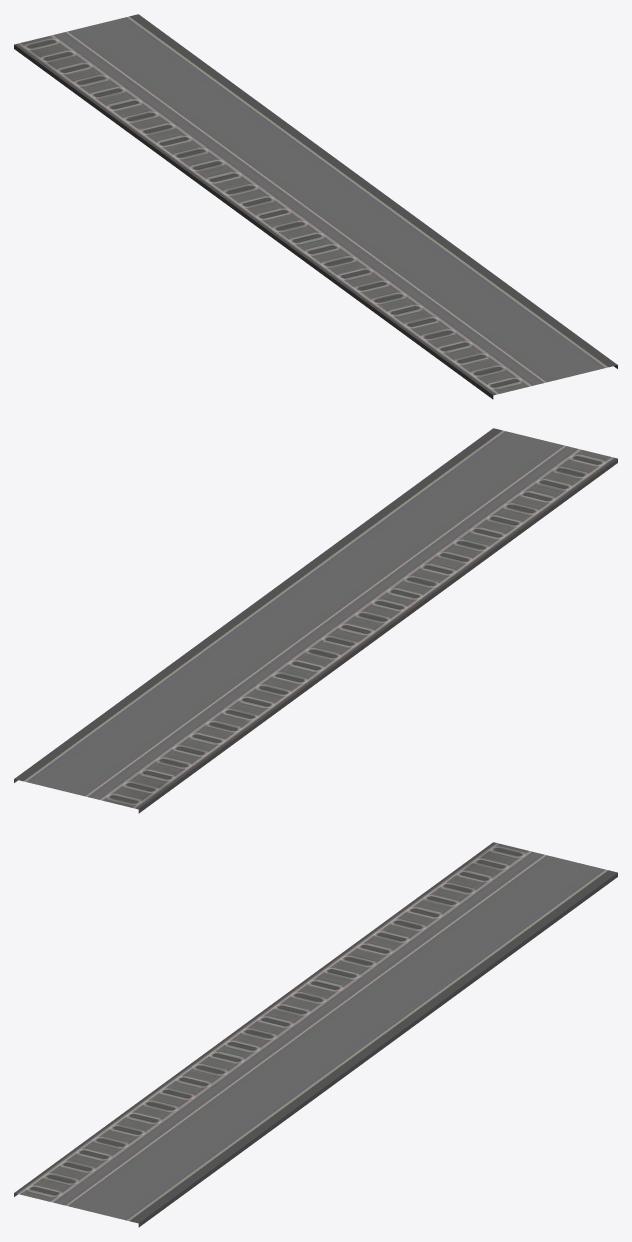
File: BottomMetal_Straight.glb
3 views of the same model, one above another, from view 1: azimuth 30°, elevation 25°; view 2: azimuth 150°, elevation 25°; view 3: azimuth 330°, elevation 25° (orthographic).
Parts seen in each view (by area): view 1: BottomMetal_Straight; view 2: BottomMetal_Straight; view 3: BottomMetal_Straight.
Boxes of the visible parts, <box> form: BottomMetal_Straight: <box>14,14,617,399</box>; BottomMetal_Straight: <box>14,428,617,813</box>; BottomMetal_Straight: <box>14,842,617,1227</box>.
Size of the model in its own units: 0.6001 by 0.02 by 4.
Materials: 2 (2 with a texture image).
